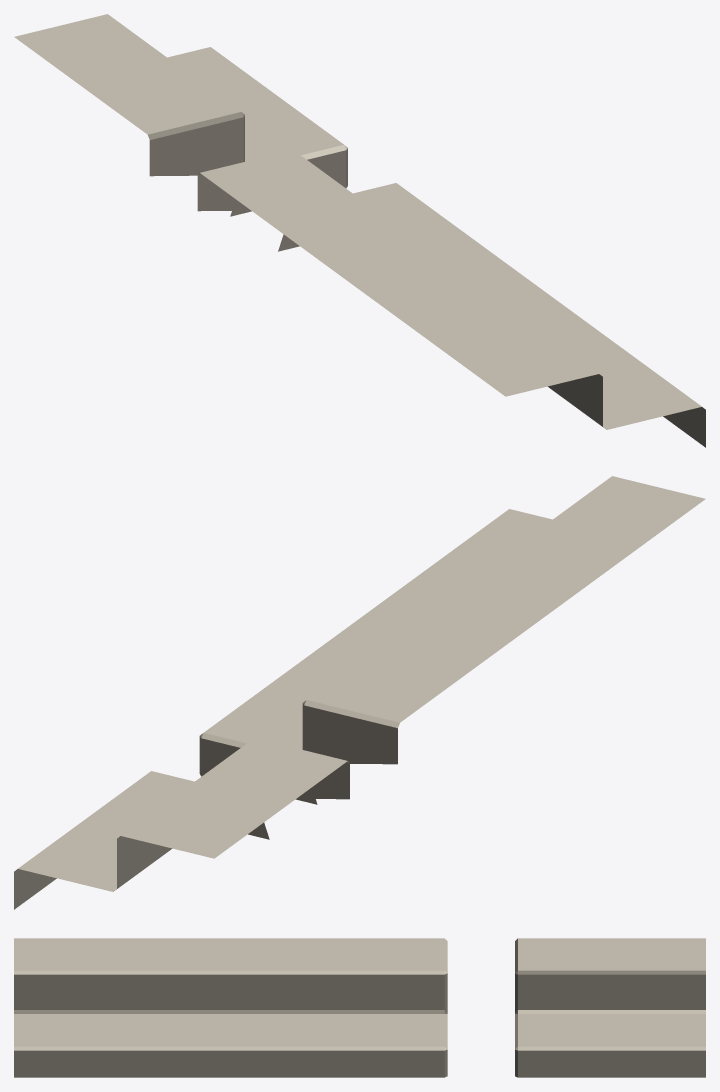
Rendered from Platform.fbx.
3 renders of one model, top to bottom at view 1: azimuth 30°, elevation 25°; view 2: azimuth 150°, elevation 25°; view 3: azimuth 270°, elevation 25°, orthographic. The views are drawn at different scales.
Visible parts, largest first — view 1: platform; view 2: platform; view 3: platform.
Part boxes in pixels (x1,y1,x2,y2): platform: (14, 14, 705, 447); platform: (14, 476, 705, 909); platform: (14, 938, 705, 1077).
Bounding box in the file's own units: 1005 × 480 × 4271.
